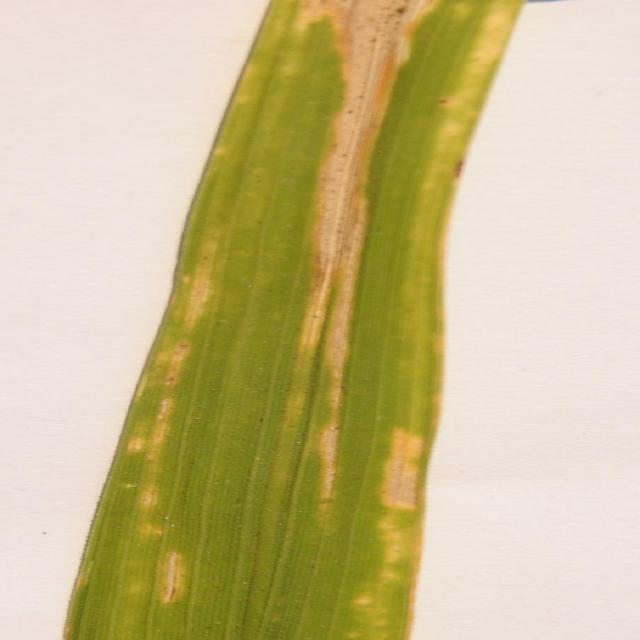leaf blight: (79, 1, 476, 636)
